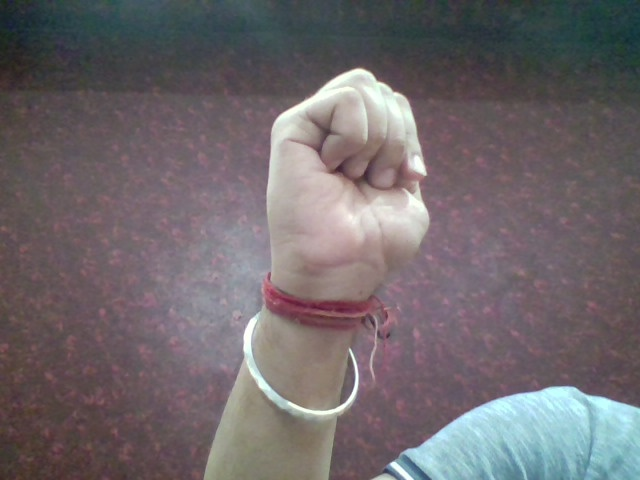m: (253, 60, 442, 287)
